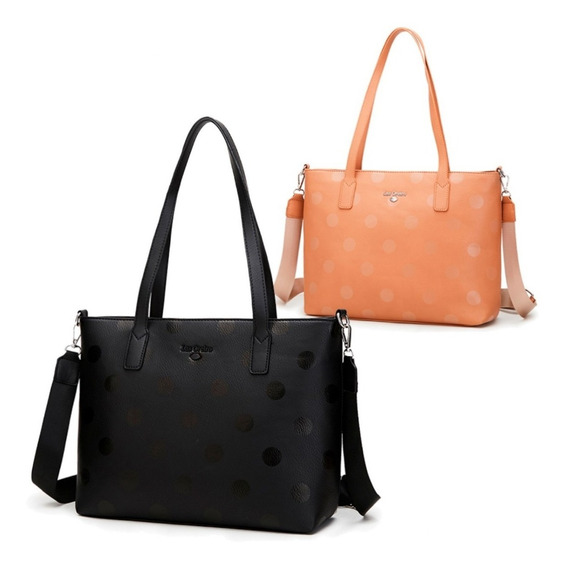cartera: (31, 116, 381, 533), (276, 27, 538, 328)
